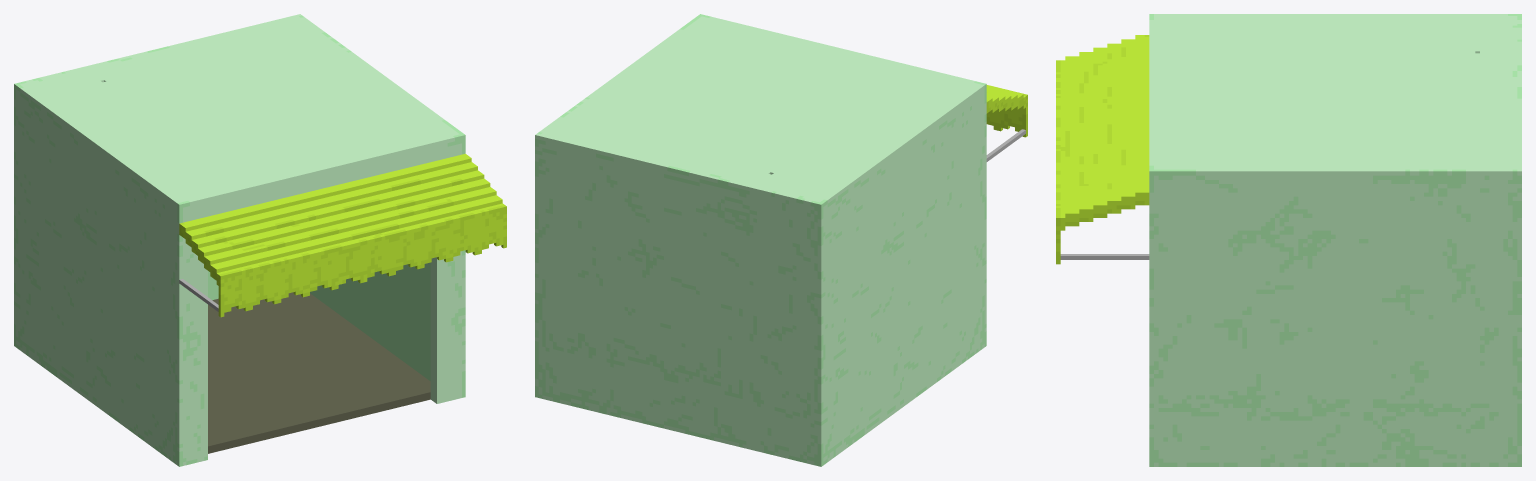
Rendered from shop-A-3-shop-A-L1.obj.
3 renders of one model, left to right at view 1: azimuth 30°, elevation 25°; view 2: azimuth 150°, elevation 25°; view 3: azimuth 270°, elevation 25°, orthographic. The views are drawn at different scales.
Parts seen in each view (by area): view 1: shop-A-L1; view 2: shop-A-L1; view 3: shop-A-L1.
Boxes of the visible parts, x1=… form: shop-A-L1: x1=14, y1=14, x2=506, y2=466; shop-A-L1: x1=535, y1=14, x2=1027, y2=466; shop-A-L1: x1=1056, y1=14, x2=1521, y2=466.
Size of the model in its own units: 8 by 7 by 10.
Materials: 1 (1 with a texture image).
